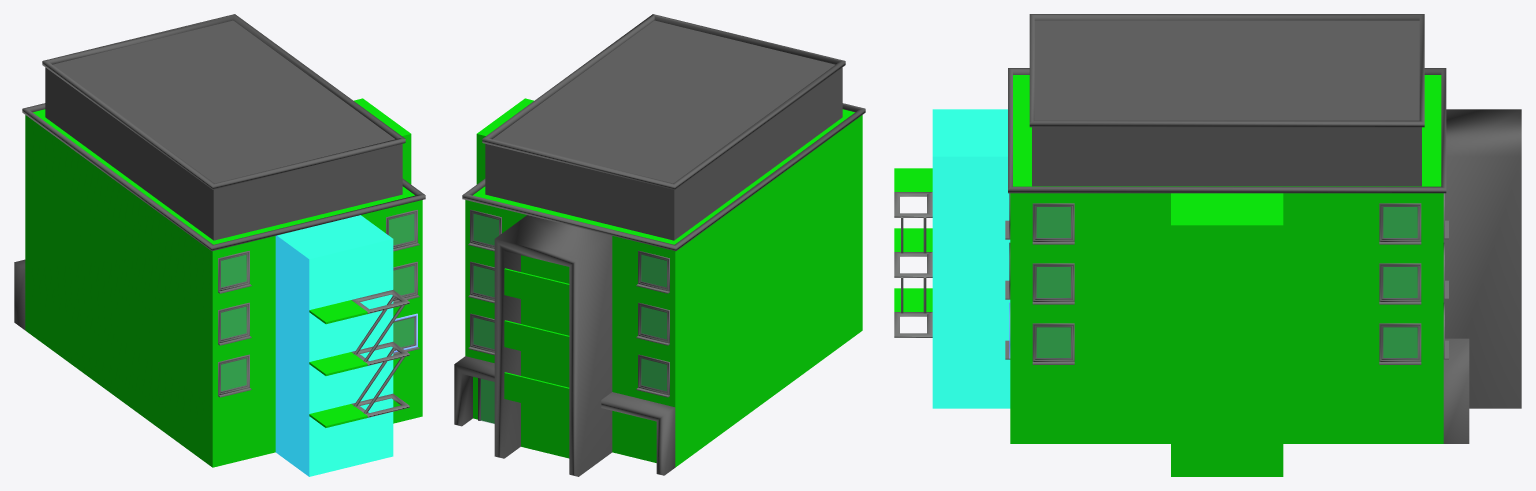
The model's file is Apartment_Complex_v4.glb.
3 views of the same model, side by side, from view 1: azimuth 30°, elevation 25°; view 2: azimuth 150°, elevation 25°; view 3: azimuth 270°, elevation 25° (orthographic). The views are drawn at different scales.
Visible parts, largest first — view 1: FlatDoubleLayer, Cube_1, Cube_10, Cube, Spline_5, Spline_4, Cube_2, Cube_13, Cube_11, Cube_12, Spline_3, Cube_38 (+8 smaller); view 2: FlatDoubleLayer, Cube_1, Spline_6, Cube, Cube_9, Spline_5, Spline_4, Spline_3, Cube_6, Cube_8, Cube_4, Spline (+8 smaller); view 3: FlatDoubleLayer, Cube_1, Cube_2, Cube, Cube_10, Spline_6, Spline_5, Spline_4, Spline, Cube_34, Cube_36, Cube_26 (+6 smaller).
Boxes of the visible parts, left/top/right/bottom form: FlatDoubleLayer: left=45, top=20, right=402, bottom=240; Cube_1: left=25, top=109, right=422, bottom=405; Cube_10: left=275, top=215, right=393, bottom=476; Cube: left=25, top=269, right=422, bottom=467; Spline_5: left=42, top=14, right=405, bottom=189; Spline_4: left=22, top=103, right=425, bottom=251; Cube_2: left=354, top=98, right=411, bottom=184; Cube_13: left=309, top=300, right=367, bottom=324; Cube_11: left=309, top=404, right=367, bottom=427; Cube_12: left=309, top=352, right=367, bottom=375; Spline_3: left=14, top=259, right=25, bottom=329; Cube_38: left=221, top=358, right=246, bottom=391; FlatDoubleLayer: left=485, top=20, right=842, bottom=240; Cube_1: left=465, top=109, right=862, bottom=405; Spline_6: left=494, top=215, right=612, bottom=476; Cube: left=465, top=269, right=862, bottom=467; Cube_9: left=521, top=255, right=569, bottom=458; Spline_5: left=482, top=14, right=845, bottom=189; Spline_4: left=462, top=103, right=865, bottom=251; Spline_3: left=601, top=392, right=675, bottom=475; Cube_6: left=504, top=320, right=569, bottom=360; Cube_8: left=504, top=268, right=569, bottom=308; Cube_4: left=504, top=372, right=569, bottom=412; Spline: left=454, top=356, right=494, bottom=426; FlatDoubleLayer: left=1032, top=20, right=1421, bottom=186; Cube_1: left=1010, top=75, right=1443, bottom=372; Cube_2: left=1171, top=193, right=1283, bottom=476; Cube: left=1010, top=372, right=1443, bottom=443; Cube_10: left=932, top=109, right=1010, bottom=408; Spline_6: left=1443, top=109, right=1521, bottom=408; Spline_5: left=1029, top=14, right=1424, bottom=127; Spline_4: left=1008, top=68, right=1446, bottom=193; Spline: left=1443, top=338, right=1469, bottom=443; Cube_34: left=1036, top=267, right=1070, bottom=298; Cube_36: left=1036, top=207, right=1070, bottom=238; Cube_26: left=1383, top=327, right=1417, bottom=358.
Size of the model in its own units: 14.15 by 13.7 by 24.6.
